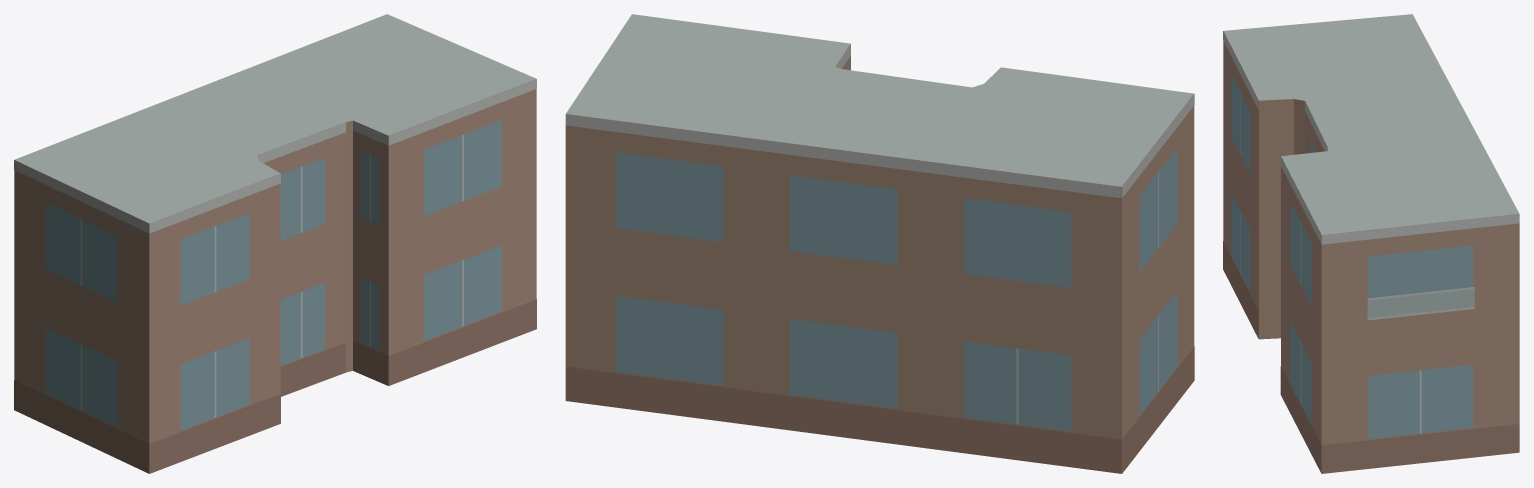
Rendered from survey-upis-32462500.glb.
3 views of the same model, side by side, from view 1: azimuth 30°, elevation 25°; view 2: azimuth 150°, elevation 25°; view 3: azimuth 270°, elevation 25° (orthographic). The views are drawn at different scales.
Parts seen in each view (by area): view 1: survey-upis-32462500.tmp; view 2: survey-upis-32462500.tmp; view 3: survey-upis-32462500.tmp.
Part boxes in pixels (x1,y1,x2,y2): survey-upis-32462500.tmp: [14, 14, 536, 473]; survey-upis-32462500.tmp: [565, 14, 1194, 473]; survey-upis-32462500.tmp: [1223, 14, 1519, 473].
Size of the model in its own units: 12.13 by 6.1 by 6.87.
